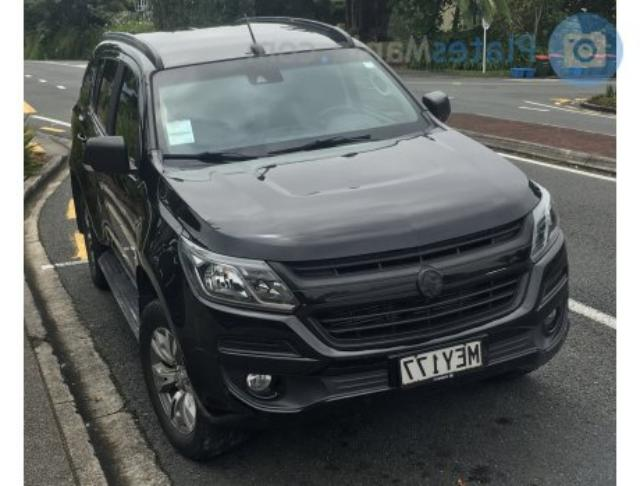Rego: (396, 341, 486, 388)
